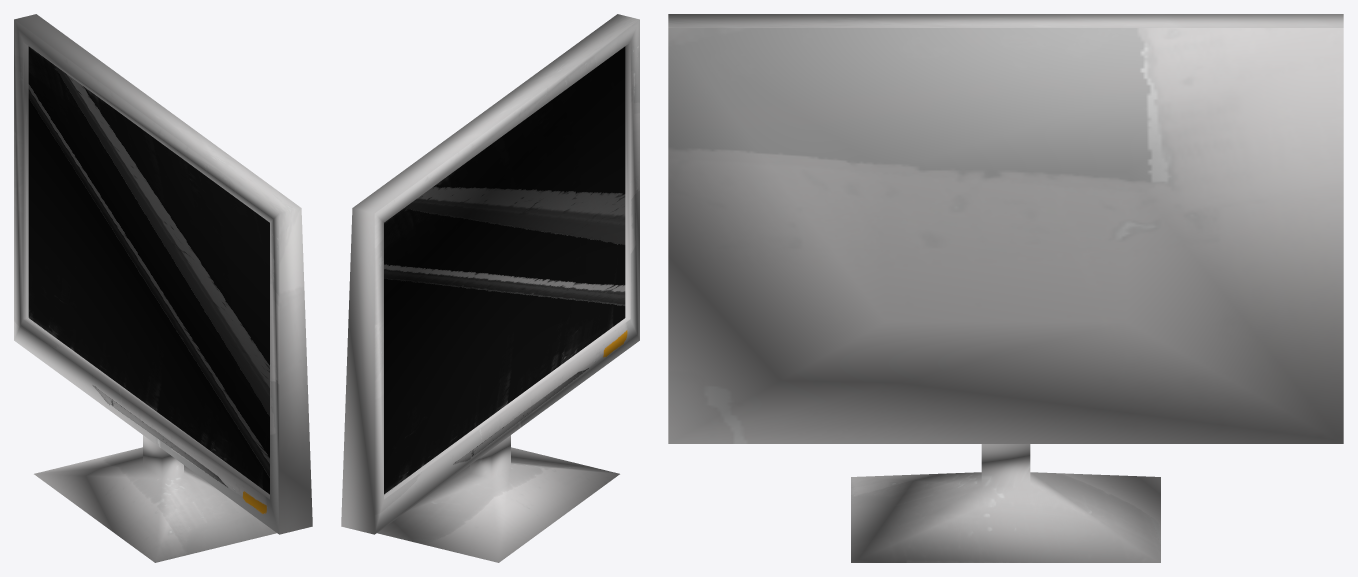
The model's file is props_Monitor.glb.
3 renders of one model, left to right at view 1: azimuth 30°, elevation 25°; view 2: azimuth 150°, elevation 25°; view 3: azimuth 270°, elevation 25°, orthographic. The views are drawn at different scales.
Visible parts, largest first — view 1: Cube.002; view 2: Cube.002; view 3: Cube.002.
Part boxes in pixels (left/top/right/bottom): Cube.002: left=14, top=14, right=312, bottom=562; Cube.002: left=341, top=14, right=639, bottom=562; Cube.002: left=668, top=14, right=1343, bottom=562.
Bounding box in the file's own units: 0.126 × 0.3388 × 0.4183.
1 material, 1 textured.
